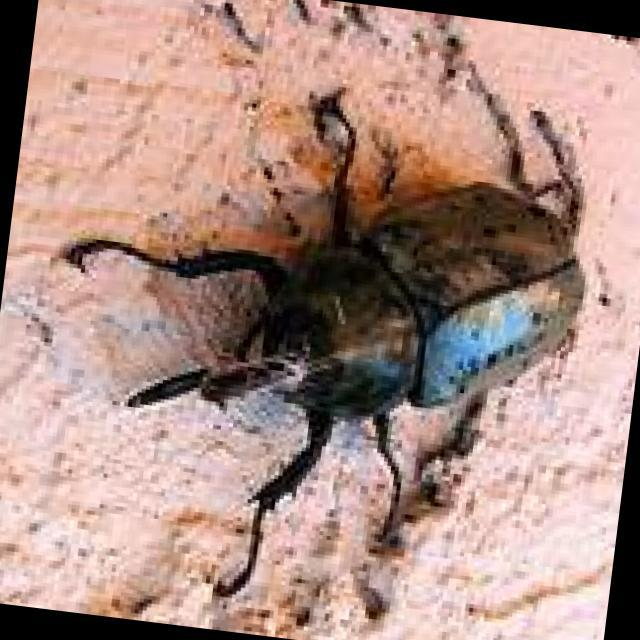Rhino-beetle: (76, 104, 621, 507)
